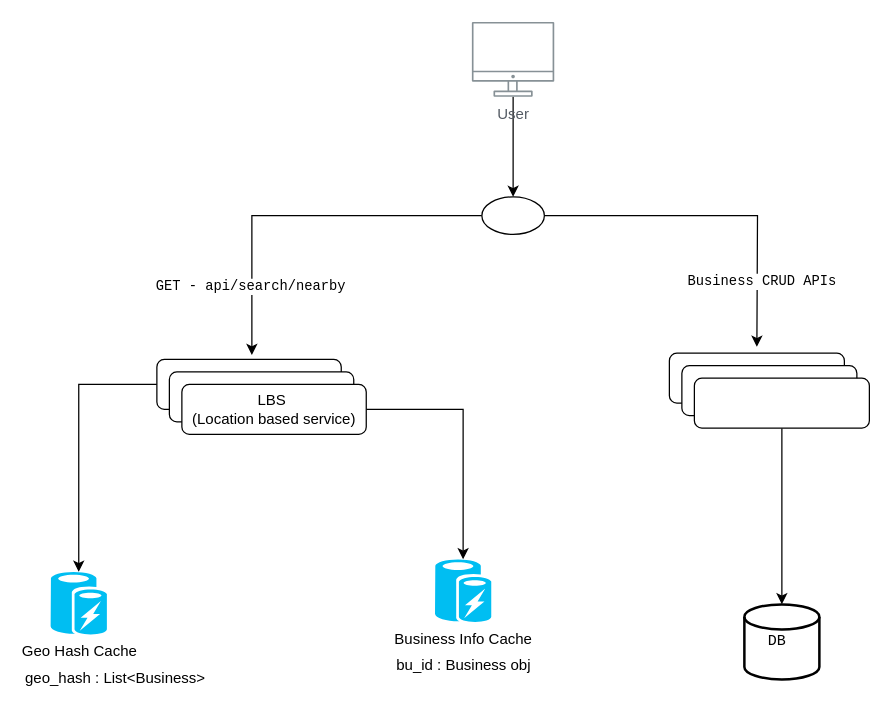
Some shapes in this 891 by 718 pixel diagram are drawn without their labels. Here are the shapes that lost their labels. From the top down, the centre of each, then its label:
At point (512, 215): "LB".
At point (781, 402): "Write API Server".
